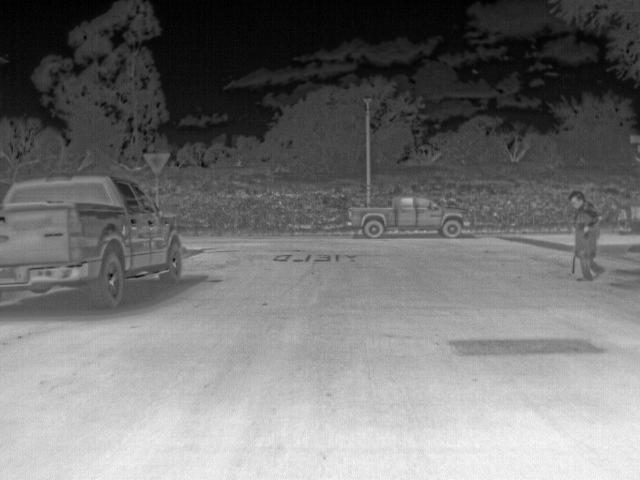car: (1, 174, 182, 308), (346, 195, 469, 237)
person: (568, 190, 600, 282)
